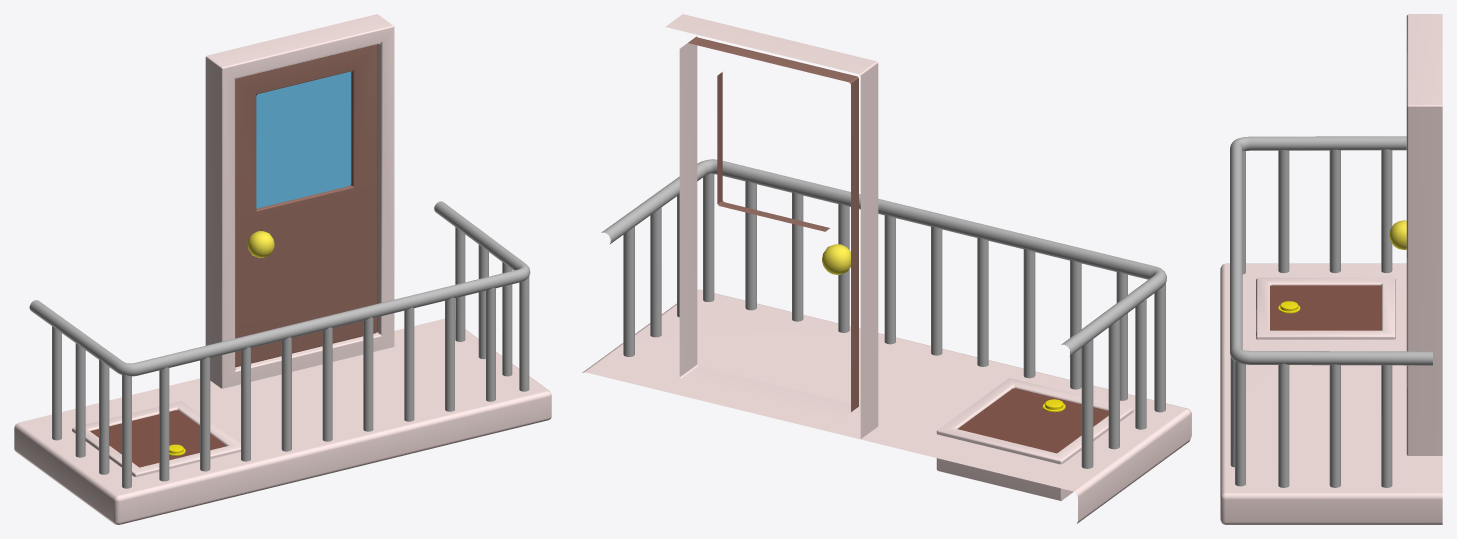
The model's file is City_13_Balcony_2.glb.
The picture shows the model from 3 angles, left to right: view 1: azimuth 30°, elevation 25°; view 2: azimuth 150°, elevation 25°; view 3: azimuth 270°, elevation 25°; orthographic projection. The views are drawn at different scales.
Visible parts, largest first — view 1: City_13_Balcony_2; view 2: City_13_Balcony_2; view 3: City_13_Balcony_2.
Boxes of the visible parts, x1=… form: City_13_Balcony_2: x1=14, y1=14, x2=551, y2=524; City_13_Balcony_2: x1=582, y1=14, x2=1191, y2=523; City_13_Balcony_2: x1=1220, y1=14, x2=1442, y2=524.
Size of the model in its own units: 3.22 by 2.5 by 1.3.
1 material, 1 textured.
